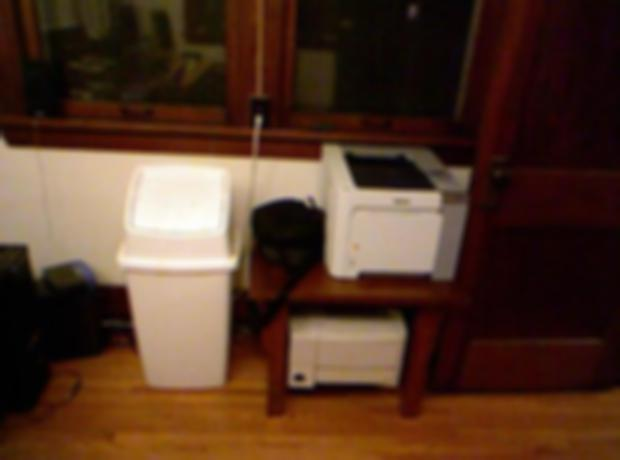Bote de Basura: (119, 161, 236, 406)
